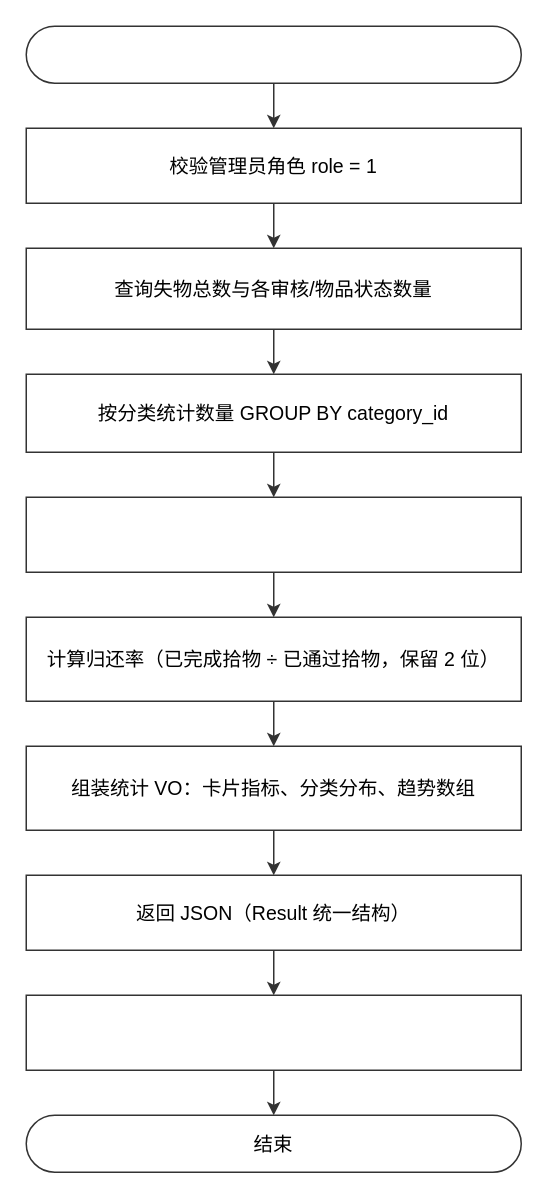
This 548x1199 diagram has some shape labels left out. Each missing label, with the centre of its shape:
前端 ECharts 渲染指标卡与图表: the point at 273,1032
开始: the point at 273,54
统计近 7 日每日发布量: the point at 273,534
